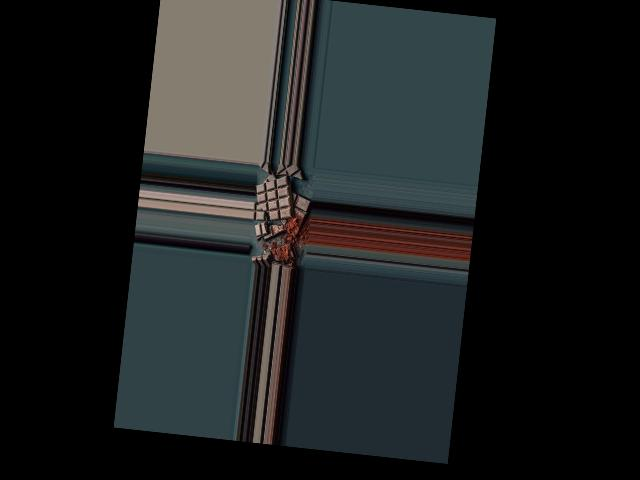chocolate: (252, 171, 297, 222)
